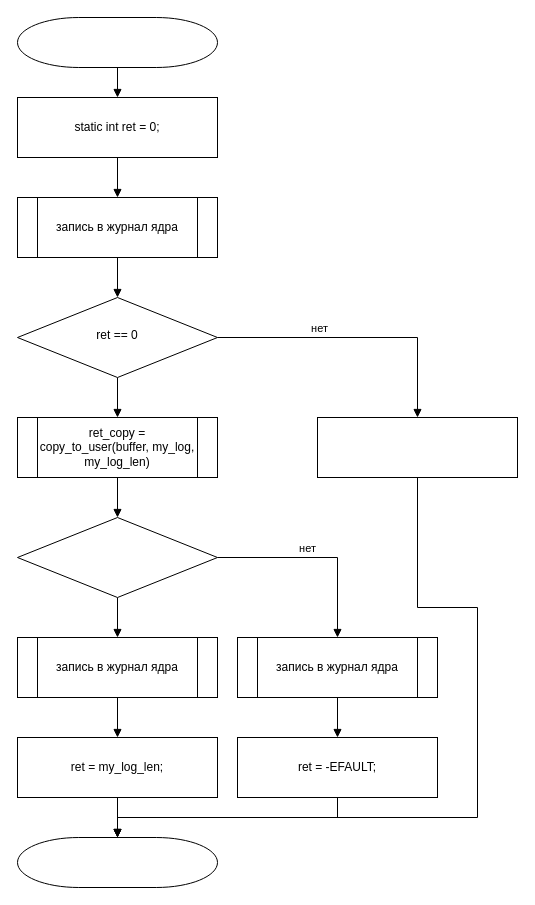
Image size: 535x905. Some labels were removed from this diagram. Here are the shapes that lost their labels. From the top down, the centre of each, then its label:
At point (117, 42): "Начало".
At point (417, 447): "ret = 0;".
At point (117, 557): "ret_copy == 0".
At point (117, 862): "Конец".
